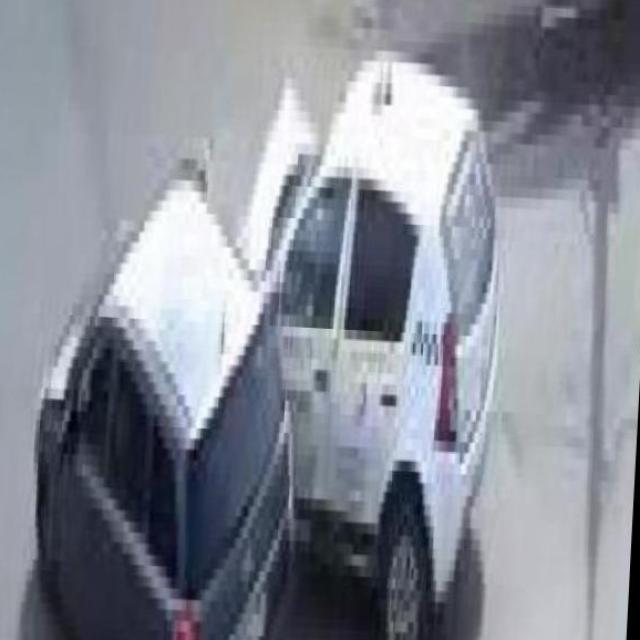accident: (0, 27, 549, 640)
